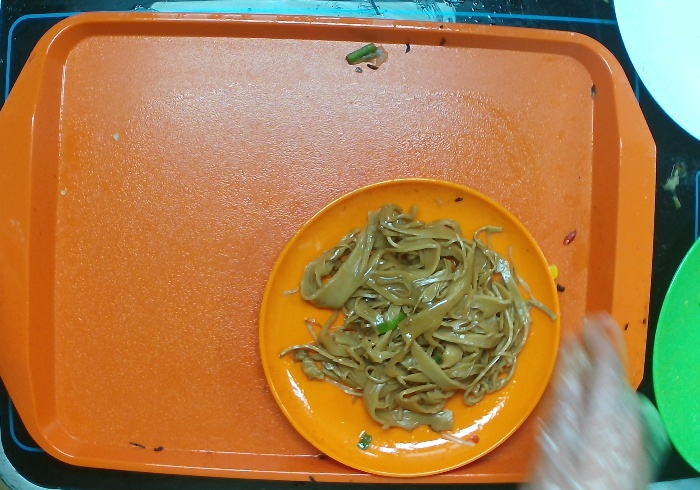HZYJPL-Ju_Huang_Yuan_Pan: (254, 176, 562, 477)
